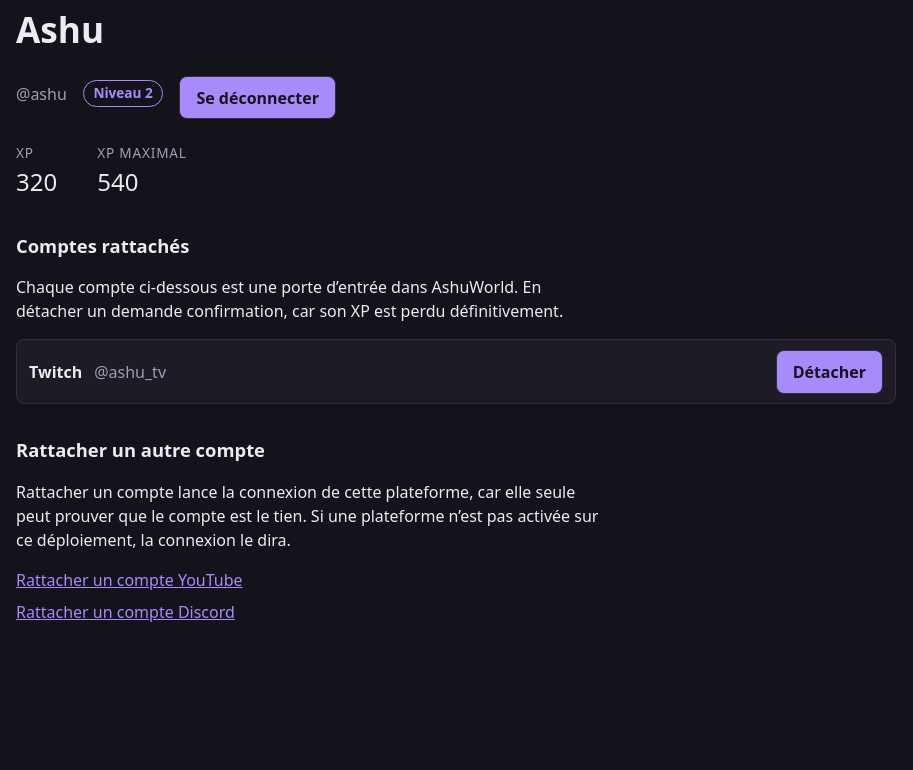
Scenario: Account, signed in › detaches after confirmation and reports what was forfeited
This screenshot has width=913, height=770.
Step 1. Click the button with aria-label "détacher le compte twitch ashu_tv" → click(829, 372), box [776,350,883,394]
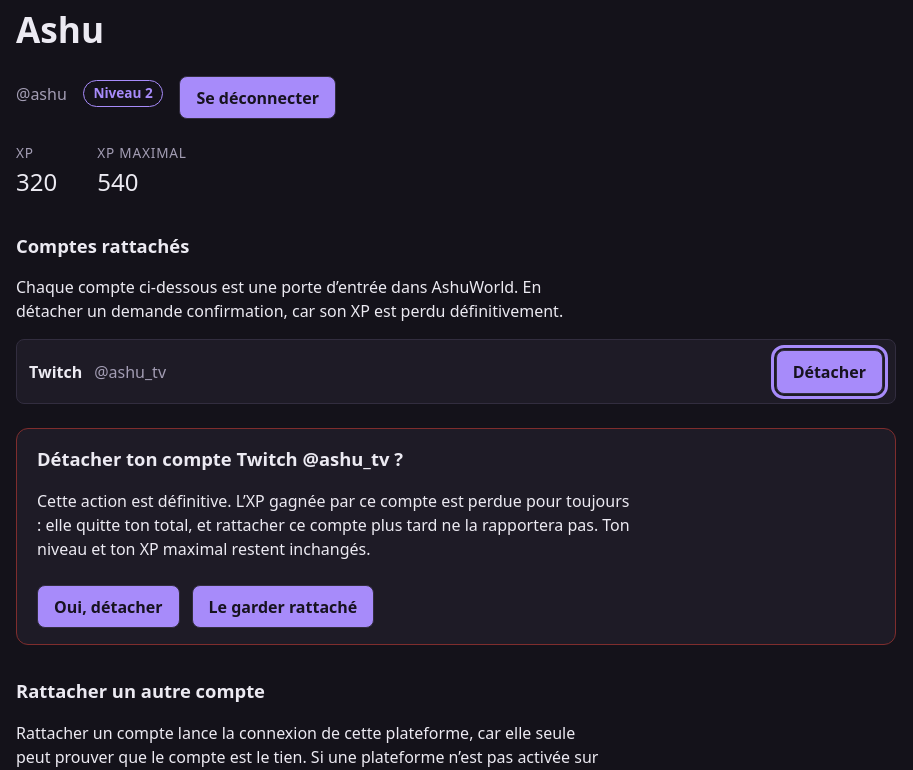
Step 2. Click the button "Oui, détacher" → click(108, 607), box [37,585,180,628]
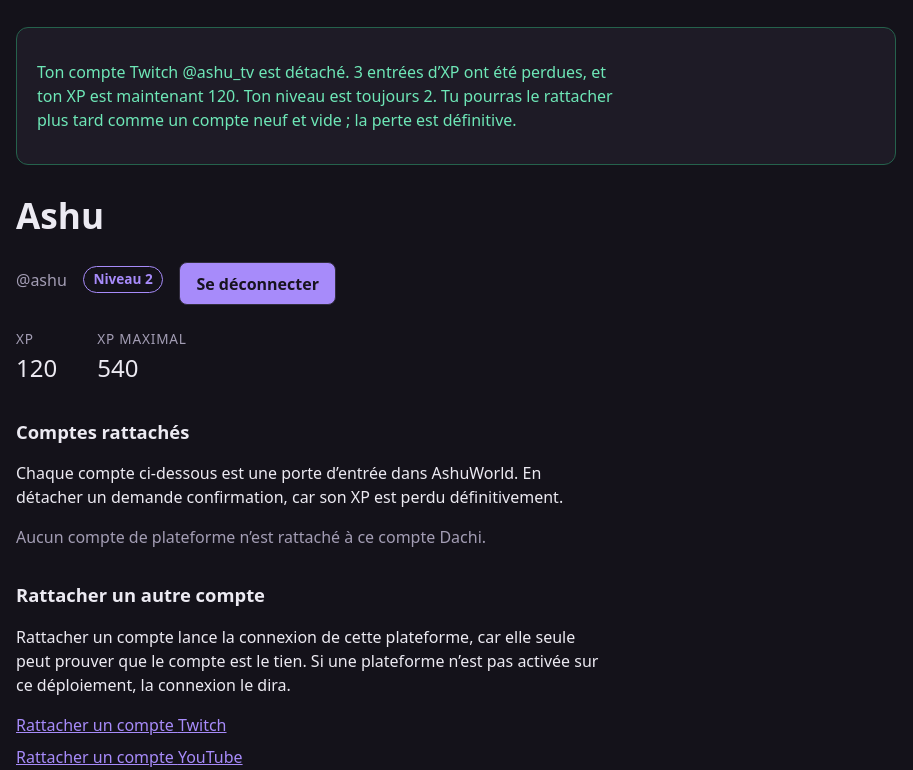
Check: the message shows "3 entrées d’XP ont été perdues", box [354,61,583,83]
Check: the message shows "ton niveau est toujours 2", box [16,27,896,165]
Check: the message shows "un compte neuf et vide", box [37,85,613,131]
